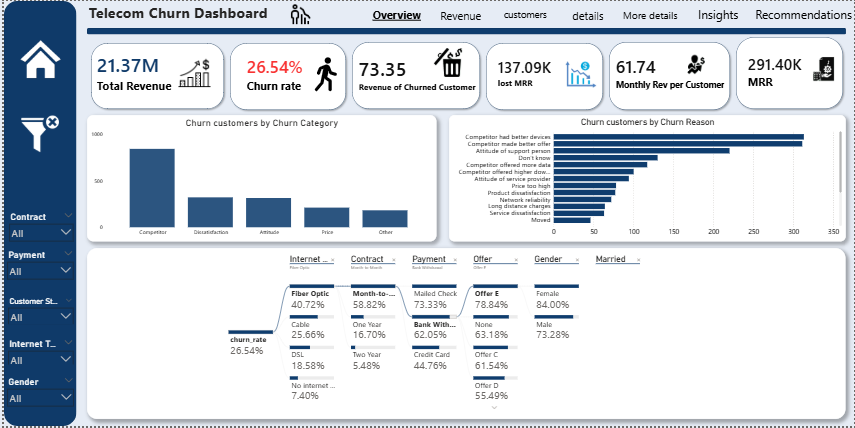

Layout of this report page (visuals, bound fields, positions):
{"tool":"powerbi","page":{"name":"overview","canvas":[2500,1250],"ordinal":1},"visuals":[{"type":"shape","box":[247.1,114.7,408.8,211.8],"z":0},{"type":"shape","box":[655.9,114.7,358.8,214.7],"z":1000},{"type":"shape","box":[1014.7,111.8,394.1,214.7],"z":2000},{"type":"shape","box":[1408.8,114.7,361.8,214.7],"z":3000},{"type":"shape","box":[1770.6,111.8,373.5,217.6],"z":4000},{"type":"shape","box":[2144.1,97.1,332.4,229.4],"z":5000},{"type":"clusteredColumnChart","title":"Churn customers by Churn Category","fields":{"Category":["fact_telecom_customer_churn.Churn Category"],"Y":["_measures.Churn_customers"]},"box":[244.4,336.1,1027.8,372.2],"z":6000},{"type":"clusteredBarChart","title":"Churn customers by Churn Reason","fields":{"Category":["fact_telecom_customer_churn.Churn Reason"],"Y":["_measures.Churn_customers"]},"box":[1308.3,336.1,1166.7,372.2],"z":7000},{"type":"shape","box":[0,0,213.2,1250],"z":8000},{"type":"actionButton","title":"Churn Overview","box":[1063.2,0,186.8,78.9],"z":9000},{"type":"actionButton","title":"Churn Overview","box":[1250,0,186.8,84.2],"z":10000},{"type":"actionButton","title":"Churn Overview","box":[1439.5,0,189.5,78.9],"z":11000},{"type":"actionButton","title":"Churn Overview","box":[1642.1,0,152.6,84.2],"z":12000},{"type":"actionButton","title":"Churn Overview","box":[1794.7,0,213.2,78.9],"z":13000},{"type":"slicer","fields":{"Values":["dim_customer.Customer Status"]},"box":[2.7,864.9,210.8,86.5],"z":14000},{"type":"slicer","fields":{"Values":["dim_internet_service.Internet Type"]},"box":[2.7,986.5,210.8,83.8],"z":15000},{"type":"slicer","fields":{"Values":["dim_contract.Payment Method"]},"box":[0,724.3,213.5,97.3],"z":16000},{"type":"slicer","fields":{"Values":["dim_contract.Contract"]},"box":[5.4,610.8,208.1,97.3],"z":17000},{"type":"slicer","fields":{"Values":["dim_customer.Gender"]},"box":[0,1097.1,214.7,108.8],"z":18000},{"type":"cardVisual","fields":{"Data":["_measures.rev from churned monthly"]},"box":[1422.2,141.7,241.7,136.1],"z":19000},{"type":"cardVisual","fields":{"Data":["_measures.Total Revenue"]},"box":[244.4,113.9,294.4,188.9],"z":20000},{"type":"cardVisual","fields":{"Data":["_measures.MRR"]},"box":[2158.3,138.9,227.8,136.1],"z":21000},{"type":"cardVisual","fields":{"Data":["_measures.avg churned customer rev per month"]},"box":[1013.9,144.4,408.3,138.9],"z":22000},{"type":"cardVisual","fields":{"Data":["_measures.churn_rate"]},"box":[686.1,127.8,288.9,175],"z":23000},{"type":"cardVisual","fields":{"Data":["_measures.MRR"]},"box":[1769.4,141.7,388.9,136.1],"z":24000},{"type":"shape","box":[243.2,78.4,2232.4,18.9],"z":25000},{"type":"decompositionTreeVisual","fields":{"ExplainBy":["dim_internet_service.Internet Type","dim_contract.Contract","dim_contract.Payment Method","fact_telecom_customer_churn.Offer","dim_customer.Gender","dim_customer.Married","dim_customer.Customer Status"],"Analyze":["_measures.churn_rate"]},"box":[244.4,725,2230.6,502.8],"z":26000},{"type":"textbox","box":[243.2,0,591.9,78.4],"z":27000},{"type":"actionButton","title":"Churn Overview","box":[2018.4,0,165.8,78.9],"z":28000},{"type":"actionButton","title":"Churn Overview","box":[2202.6,0,297.4,78.9],"z":29000},{"type":"image","box":[800,0,145.9,78.4],"z":30000},{"type":"image","box":[40.5,110.8,132.4,118.9],"z":31000},{"type":"image","box":[21.6,335.1,170.3,110.8],"z":32000},{"type":"image","box":[488.9,158.3,144.4,108.3],"z":33000},{"type":"image","box":[891.7,152.8,111.1,125],"z":34000},{"type":"image","box":[2372.2,111.1,80.6,177.8],"z":35000},{"type":"image","box":[1947.2,152.8,177.8,72.2],"z":36000},{"type":"image","box":[1627.8,163.9,141.7,102.8],"z":37000},{"type":"image","box":[1235.3,138.2,141.2,85.3],"z":38000}]}

Visuals, with their boxes on the page's 2500x1250 design canvas (x1, y1, x2, y2). These are canvas units, not pixel positions in the 855x428 screenshot, which may show the page scaled, cropped or inside an application window:
shape: {"x1": 247, "y1": 115, "x2": 656, "y2": 326}
shape: {"x1": 656, "y1": 115, "x2": 1015, "y2": 329}
shape: {"x1": 1015, "y1": 112, "x2": 1409, "y2": 326}
shape: {"x1": 1409, "y1": 115, "x2": 1771, "y2": 329}
shape: {"x1": 1771, "y1": 112, "x2": 2144, "y2": 329}
shape: {"x1": 2144, "y1": 97, "x2": 2476, "y2": 326}
"Churn customers by Churn Category" clusteredColumnChart: {"x1": 244, "y1": 336, "x2": 1272, "y2": 708}
"Churn customers by Churn Reason" clusteredBarChart: {"x1": 1308, "y1": 336, "x2": 2475, "y2": 708}
shape: {"x1": 0, "y1": 0, "x2": 213, "y2": 1250}
"Churn Overview" actionButton: {"x1": 1063, "y1": 0, "x2": 1250, "y2": 79}
"Churn Overview" actionButton: {"x1": 1250, "y1": 0, "x2": 1437, "y2": 84}
"Churn Overview" actionButton: {"x1": 1440, "y1": 0, "x2": 1629, "y2": 79}
"Churn Overview" actionButton: {"x1": 1642, "y1": 0, "x2": 1795, "y2": 84}
"Churn Overview" actionButton: {"x1": 1795, "y1": 0, "x2": 2008, "y2": 79}
slicer - dim_customer.Customer Status: {"x1": 3, "y1": 865, "x2": 214, "y2": 951}
slicer - dim_internet_service.Internet Type: {"x1": 3, "y1": 986, "x2": 214, "y2": 1070}
slicer - dim_contract.Payment Method: {"x1": 0, "y1": 724, "x2": 214, "y2": 822}
slicer - dim_contract.Contract: {"x1": 5, "y1": 611, "x2": 214, "y2": 708}
slicer - dim_customer.Gender: {"x1": 0, "y1": 1097, "x2": 215, "y2": 1206}
cardVisual - _measures.rev from churned monthly: {"x1": 1422, "y1": 142, "x2": 1664, "y2": 278}
cardVisual - _measures.Total Revenue: {"x1": 244, "y1": 114, "x2": 539, "y2": 303}
cardVisual - _measures.MRR: {"x1": 2158, "y1": 139, "x2": 2386, "y2": 275}
cardVisual - _measures.avg churned customer rev per month: {"x1": 1014, "y1": 144, "x2": 1422, "y2": 283}
cardVisual - _measures.churn_rate: {"x1": 686, "y1": 128, "x2": 975, "y2": 303}
cardVisual - _measures.MRR: {"x1": 1769, "y1": 142, "x2": 2158, "y2": 278}
shape: {"x1": 243, "y1": 78, "x2": 2476, "y2": 97}
decompositionTreeVisual - dim_internet_service.Internet Type x dim_contract.Contract: {"x1": 244, "y1": 725, "x2": 2475, "y2": 1228}
textbox: {"x1": 243, "y1": 0, "x2": 835, "y2": 78}
"Churn Overview" actionButton: {"x1": 2018, "y1": 0, "x2": 2184, "y2": 79}
"Churn Overview" actionButton: {"x1": 2203, "y1": 0, "x2": 2500, "y2": 79}
image: {"x1": 800, "y1": 0, "x2": 946, "y2": 78}
image: {"x1": 40, "y1": 111, "x2": 173, "y2": 230}
image: {"x1": 22, "y1": 335, "x2": 192, "y2": 446}
image: {"x1": 489, "y1": 158, "x2": 633, "y2": 267}
image: {"x1": 892, "y1": 153, "x2": 1003, "y2": 278}
image: {"x1": 2372, "y1": 111, "x2": 2453, "y2": 289}
image: {"x1": 1947, "y1": 153, "x2": 2125, "y2": 225}
image: {"x1": 1628, "y1": 164, "x2": 1770, "y2": 267}
image: {"x1": 1235, "y1": 138, "x2": 1376, "y2": 224}
